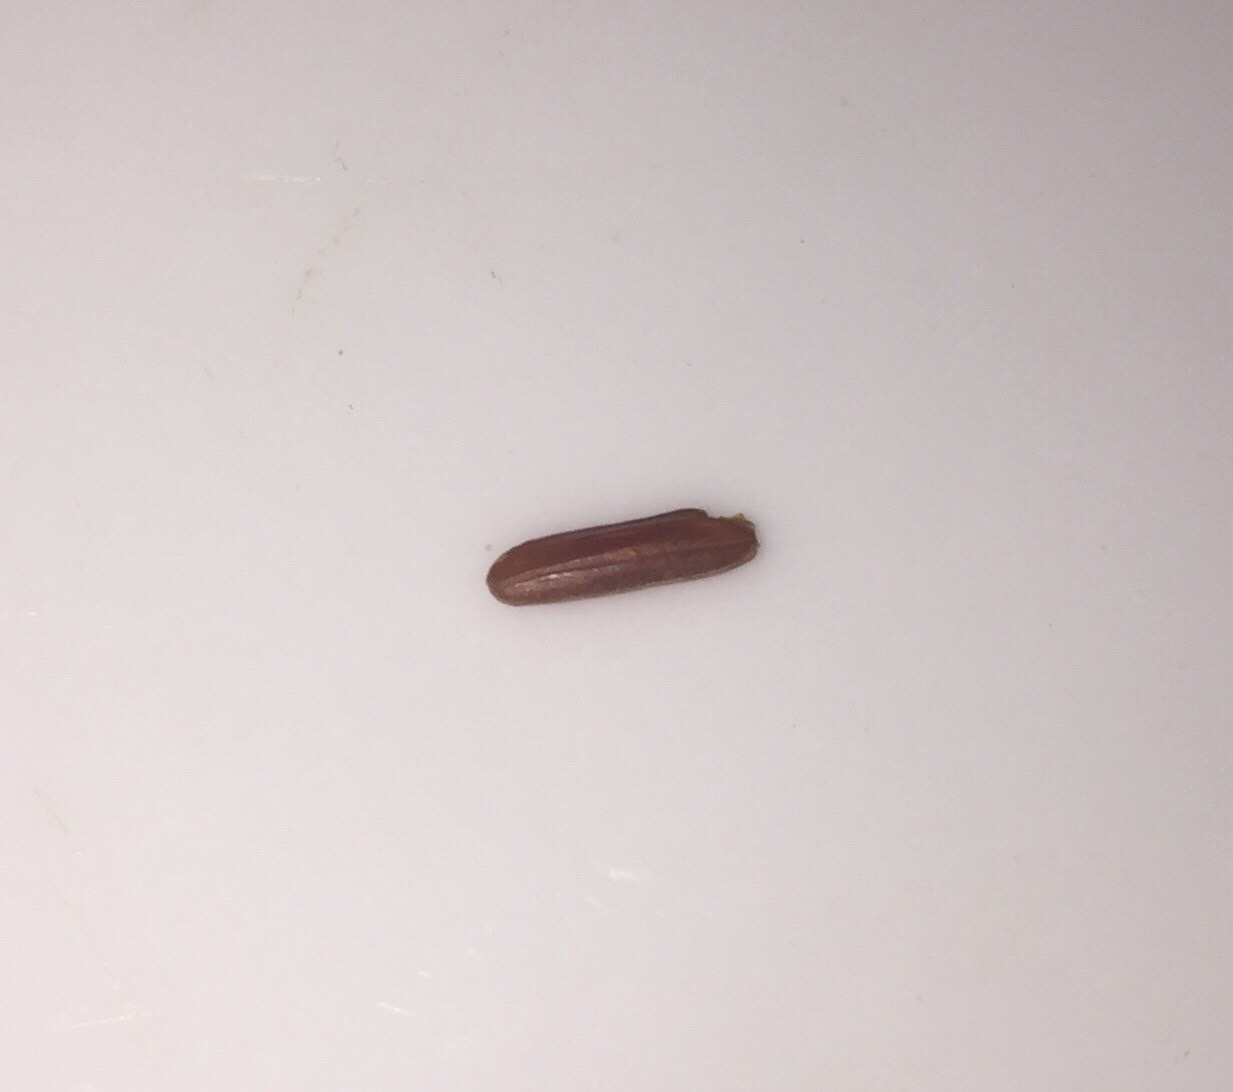Gao Huyet Rong: (484, 506, 775, 640)
